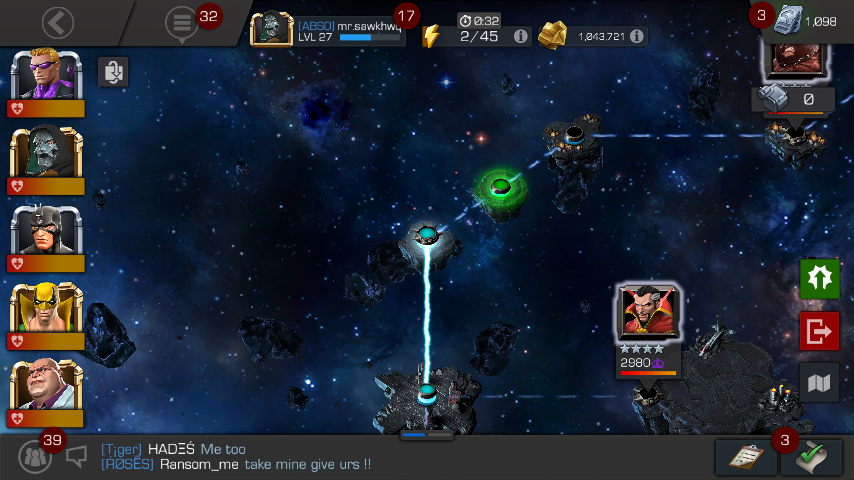green: (491, 179, 512, 195)
